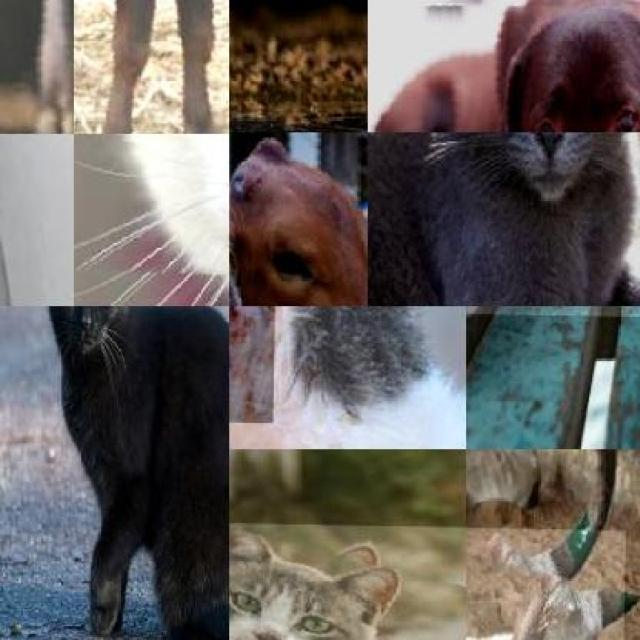buffalo: (74, 0, 229, 134), (229, 0, 367, 132)
cat: (36, 306, 230, 640), (367, 132, 640, 306), (229, 306, 466, 449), (229, 520, 466, 640), (74, 134, 229, 306)
cow: (229, 132, 368, 306), (466, 521, 626, 640)
dog: (367, 0, 640, 132)
injured: (230, 306, 276, 422)
